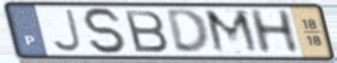B: (121, 8, 171, 54)
D: (164, 7, 212, 56)
H: (246, 8, 303, 57)
J: (49, 8, 84, 54)
M: (202, 8, 264, 56)
S: (80, 6, 131, 56)
